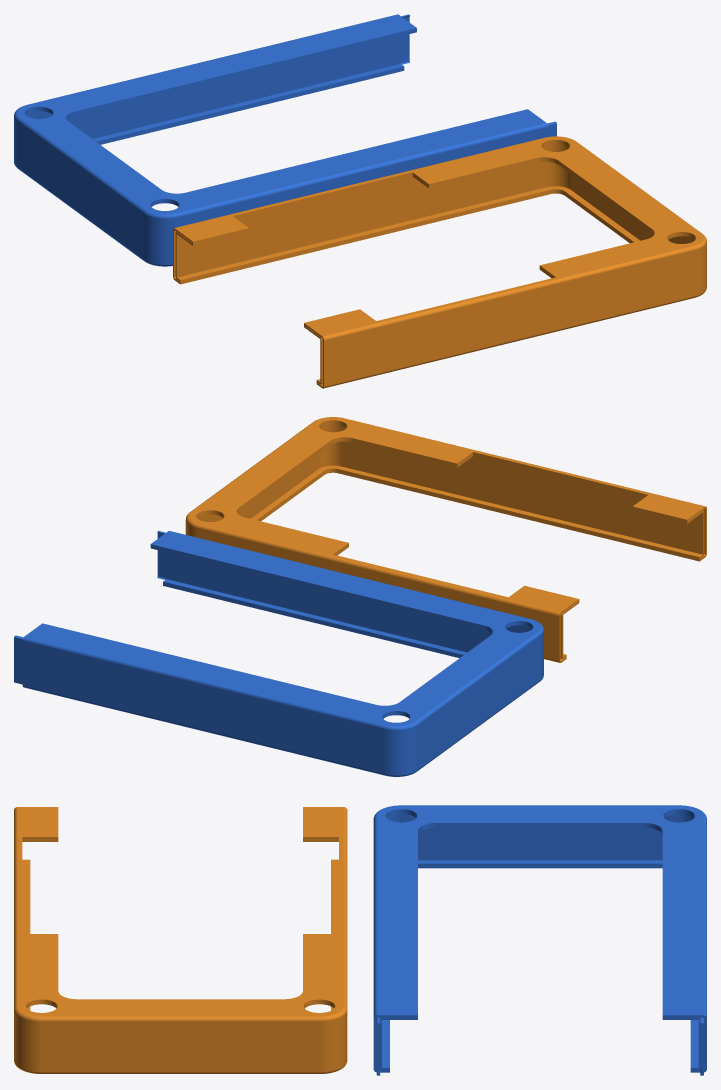
Rendered from coque_xeneon_plateau.glb.
The picture shows the model from 3 angles, top to bottom: view 1: azimuth 30°, elevation 25°; view 2: azimuth 150°, elevation 25°; view 3: azimuth 270°, elevation 25°; orthographic projection. The views are drawn at different scales.
Parts seen in each view (by area): view 1: coque_droite, coque_gauche; view 2: coque_gauche, coque_droite; view 3: coque_gauche, coque_droite.
Part boxes in pixels (x1,y1,x2,y2): coque_droite: (173,136,706,388); coque_gauche: (14,14,556,266); coque_gauche: (14,531,543,776); coque_droite: (185,417,706,662); coque_gauche: (373,805,706,1075); coque_droite: (14,807,347,1073).
Size of the model in its own units: 0.1945 by 0.024 by 0.263.
